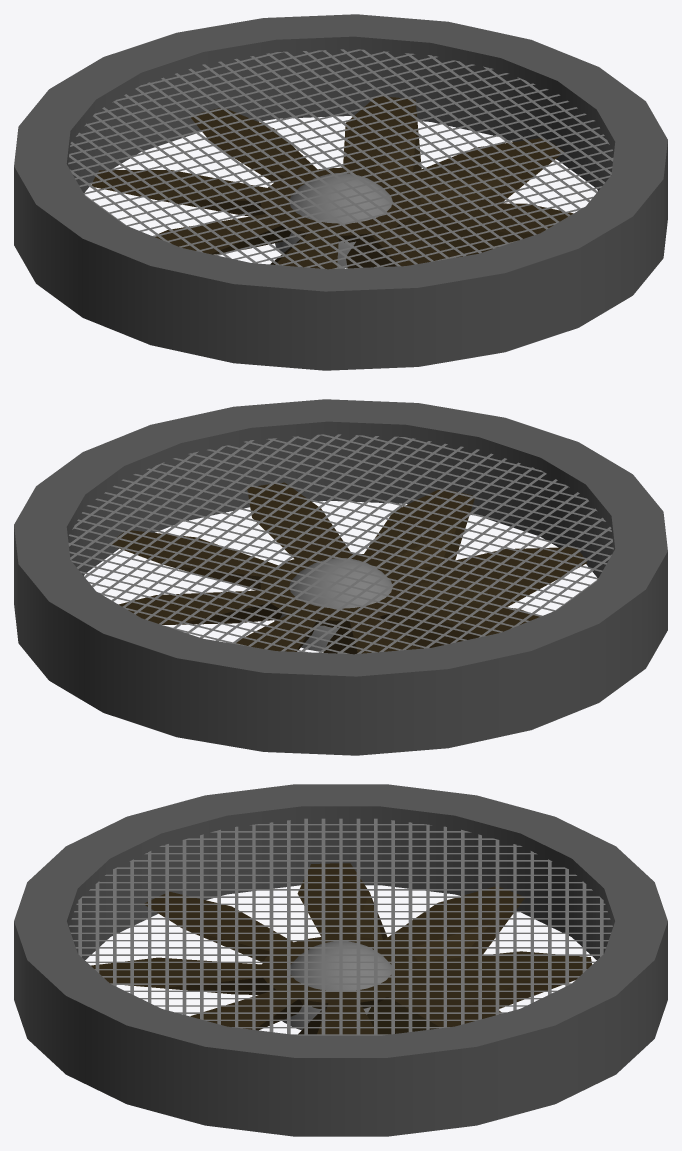
File: P_Industrial_Fan.fbx
3 renders of one model, top to bottom at view 1: azimuth 30°, elevation 25°; view 2: azimuth 150°, elevation 25°; view 3: azimuth 270°, elevation 25°, orthographic.
Parts seen in each view (by area): view 1: P_Support, P_Helice; view 2: P_Support, P_Helice; view 3: P_Support, P_Helice.
Boxes of the visible parts, bbox=[...] form: P_Support: bbox=[14, 14, 667, 370]; P_Helice: bbox=[91, 96, 573, 269]; P_Support: bbox=[14, 399, 667, 755]; P_Helice: bbox=[112, 482, 586, 654]; P_Support: bbox=[14, 784, 667, 1136]; P_Helice: bbox=[91, 863, 592, 1034].
Size of the model in its own units: 814 by 120 by 822.
